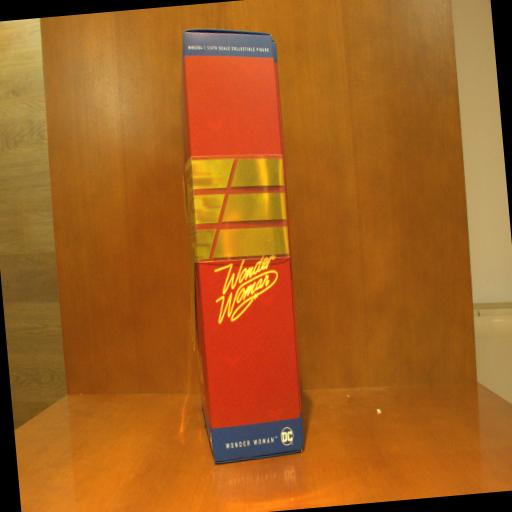WonderWoman: (164, 21, 316, 465)
